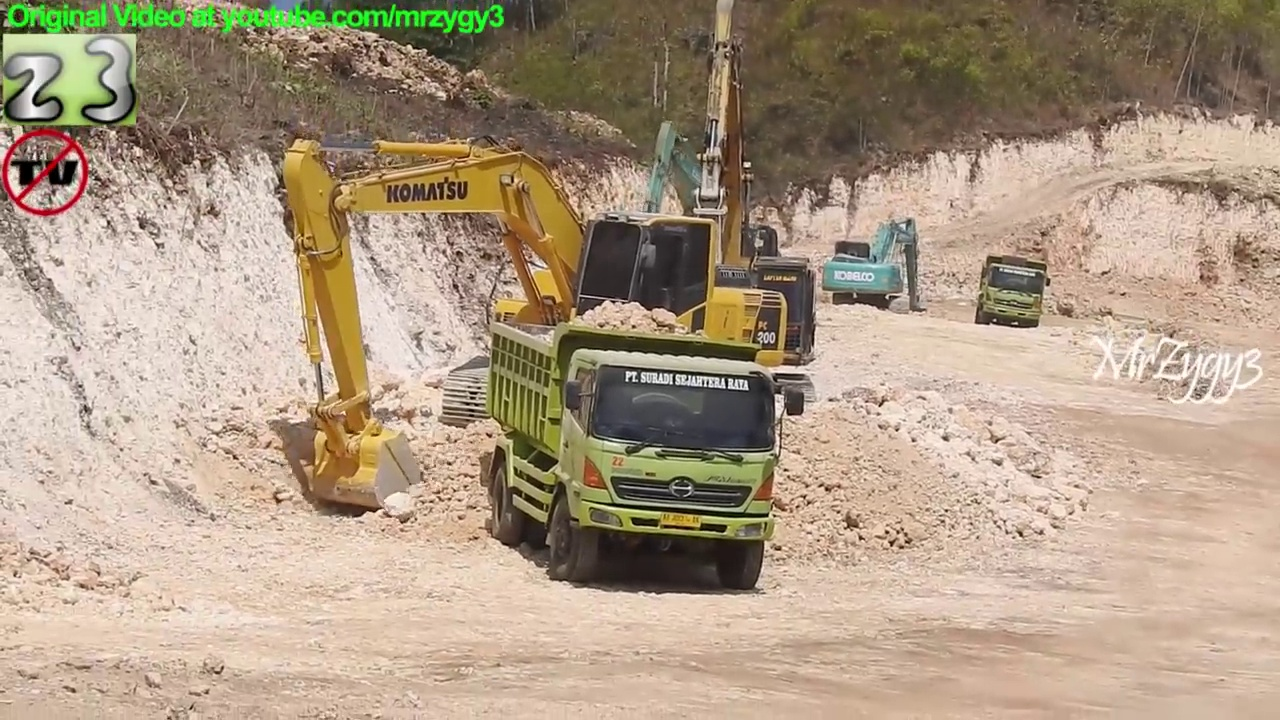excavator: (267, 133, 792, 513), (536, 1, 819, 424), (820, 216, 930, 316)
truck: (482, 309, 809, 596), (974, 251, 1053, 334)
